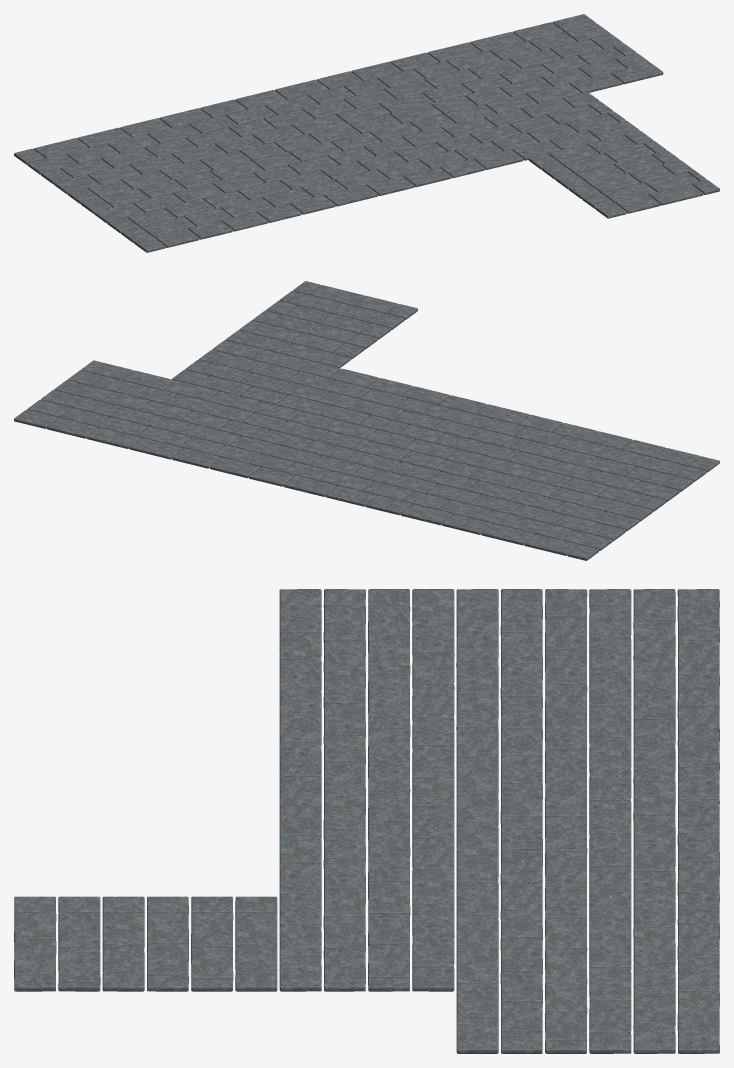
The model's file is paving-layout-p2-v2.glb.
3 views of the same model, one above another, from view 1: azimuth 30°, elevation 25°; view 2: azimuth 150°, elevation 25°; view 3: azimuth 270°, elevation 25° (orthographic). The views are drawn at different scales.
Parts seen in each view (by area): view 1: paving-layout-p2-v2; view 2: paving-layout-p2-v2; view 3: paving-layout-p2-v2.
Part boxes in pixels (x1,y1,x2,y2): paving-layout-p2-v2: (14,14,719,252); paving-layout-p2-v2: (14,281,719,560); paving-layout-p2-v2: (14,589,719,1053).
Size of the model in its own units: 11.09 by 0.058 by 7.18.
1 material, 1 textured.
